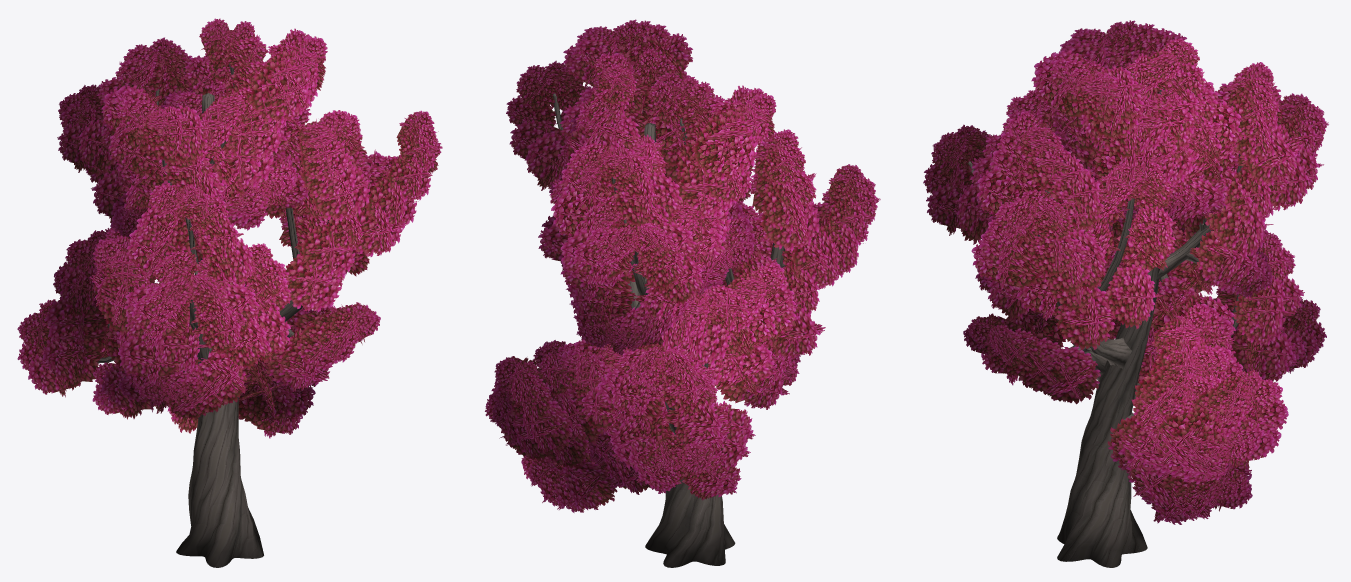
Rendered from TwistedTree_3.gltf.
3 renders of one model, left to right at view 1: azimuth 30°, elevation 25°; view 2: azimuth 150°, elevation 25°; view 3: azimuth 270°, elevation 25°, orthographic. The views are drawn at different scales.
Parts seen in each view (by area): view 1: TwistedTree_3; view 2: TwistedTree_3; view 3: TwistedTree_3.
Part boxes in pixels (x1,y1,x2,y2): TwistedTree_3: [17, 18, 442, 567]; TwistedTree_3: [485, 19, 880, 567]; TwistedTree_3: [923, 20, 1328, 567].
Size of the model in its own units: 11.36 by 16.07 by 11.51.
2 materials, 2 textured.
